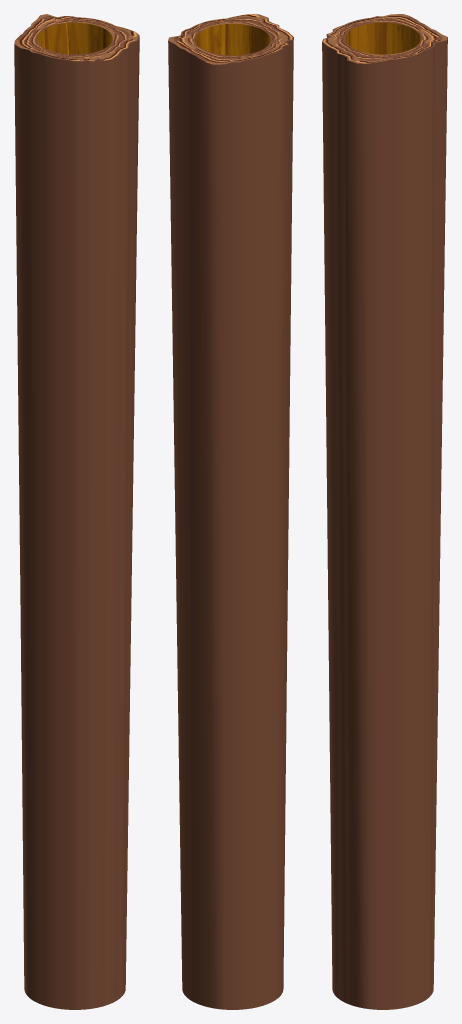
File: trunk modified4.fbx
3 views of the same model, side by side, from view 1: azimuth 90°, elevation 25°; view 2: azimuth 150°, elevation 25°; view 3: azimuth 330°, elevation 25° (orthographic).
Parts seen in each view (by area): view 1: pCylinder1; view 2: pCylinder1; view 3: pCylinder1.
Boxes of the visible parts, x1,y1,x2,y2 form: pCylinder1: (14, 14, 139, 1009); pCylinder1: (168, 14, 293, 1009); pCylinder1: (322, 14, 447, 1009).
Size of the model in its own units: 22.14 by 207 by 24.73.
Materials: 1 (1 with a texture image).
